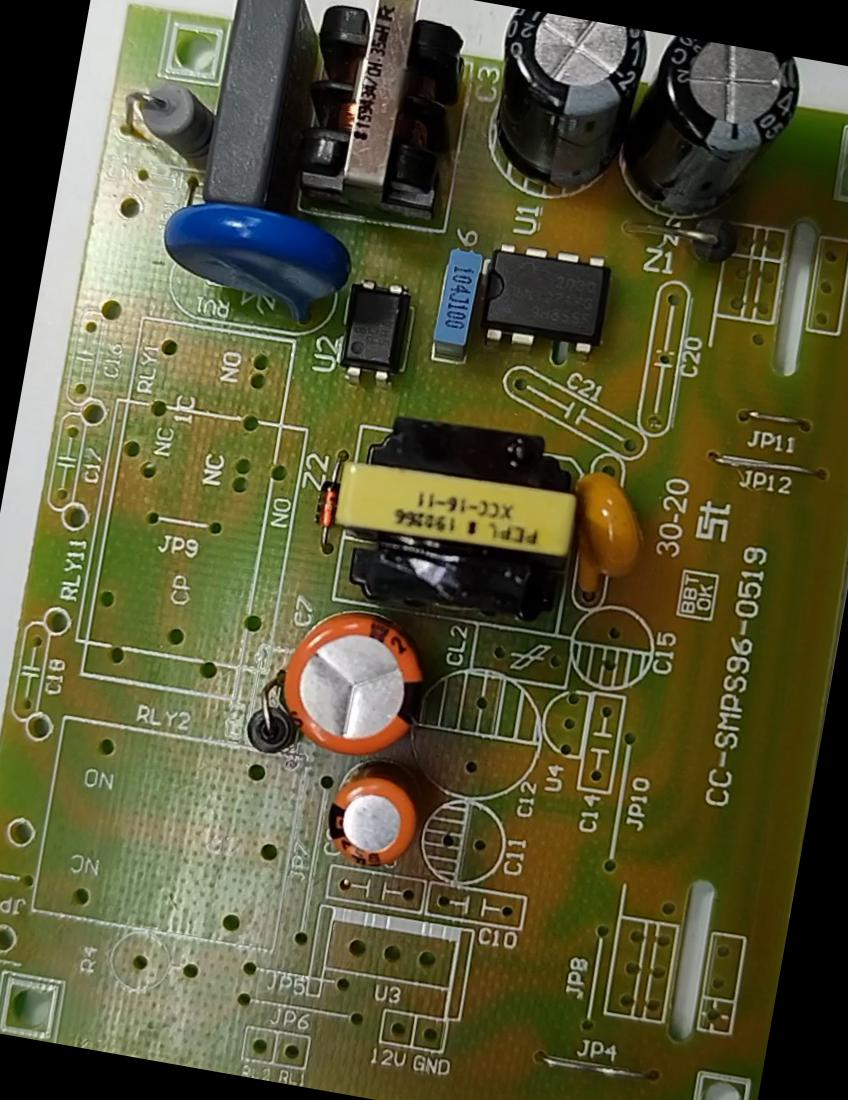Cap1: (260, 586, 449, 782)
Cap2: (294, 747, 449, 890)
Cap3: (461, 5, 667, 225)
Cap4: (590, 28, 820, 264)
MOSFET: (450, 222, 635, 384)
Mov: (136, 178, 370, 348)
Resistor: (108, 64, 230, 196)
Transformer: (311, 396, 604, 656), (267, 0, 488, 248)
